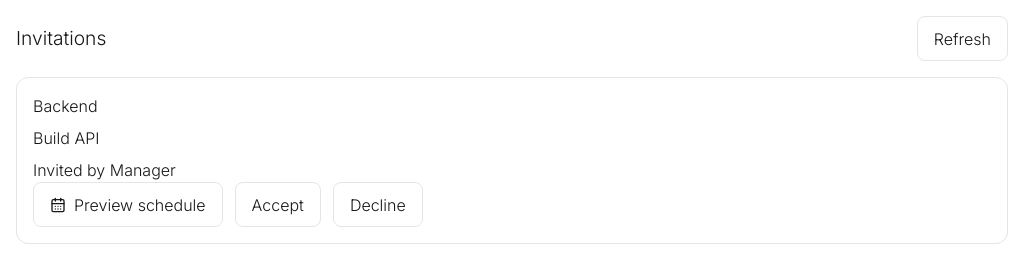
Test: TileShareInvitations › accepts only the selected assignment and refreshes pending state after success
Expected: the heading "Build API" is shown, x1=33 y1=128 x2=99 y2=148
Click the button "Accept" at (278, 205), box x1=235 y1=182 x2=321 y2=227
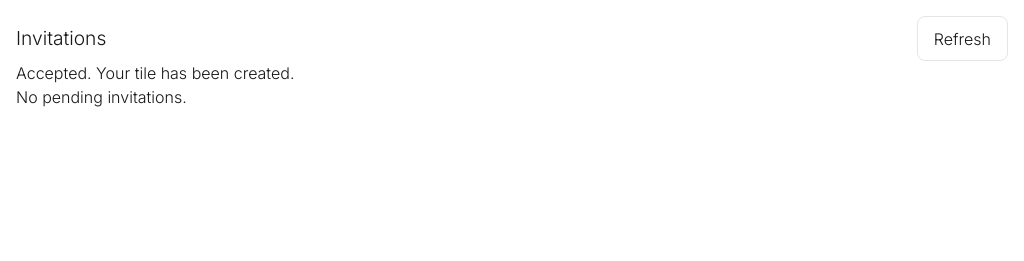
Expected: the text "Accepted. Your tile has been created." is shown, x1=16 y1=63 x2=294 y2=83
Expected: the text "No pending invitations." is shown, x1=16 y1=87 x2=187 y2=107
